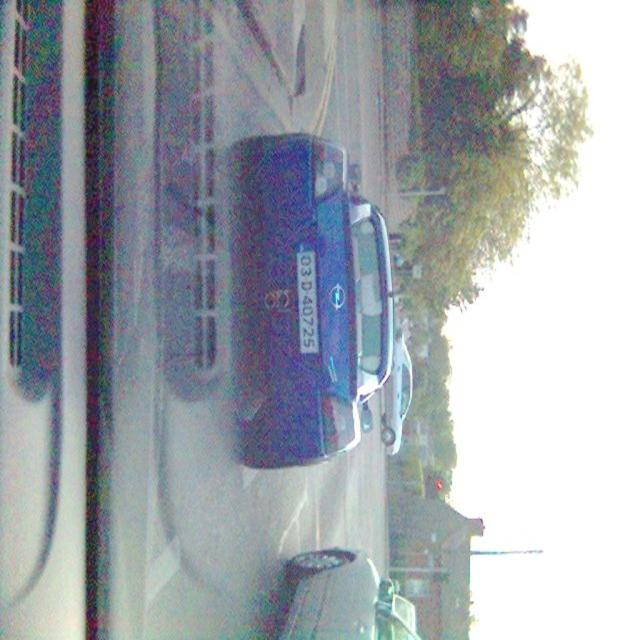car: (225, 153, 392, 467), (278, 543, 423, 638), (382, 323, 416, 458)
